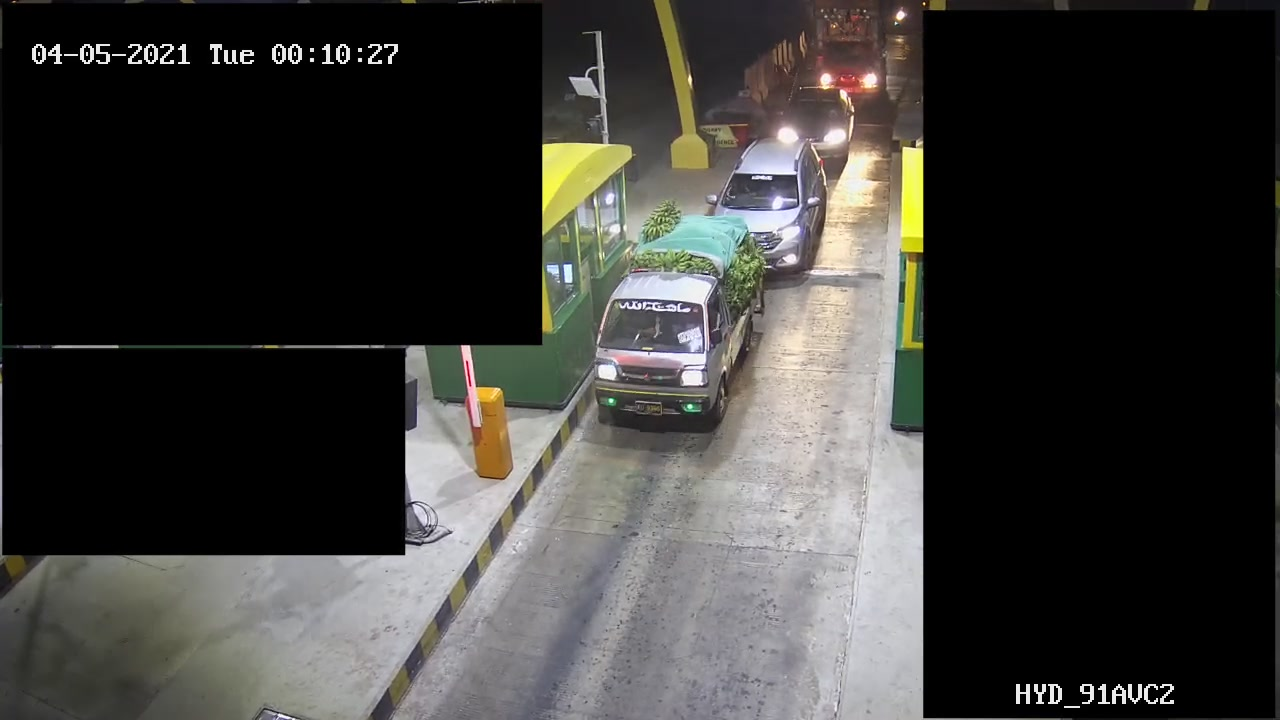F1: (583, 213, 758, 431)
